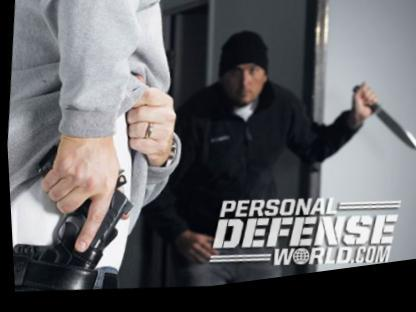pistol: (10, 129, 136, 297)
